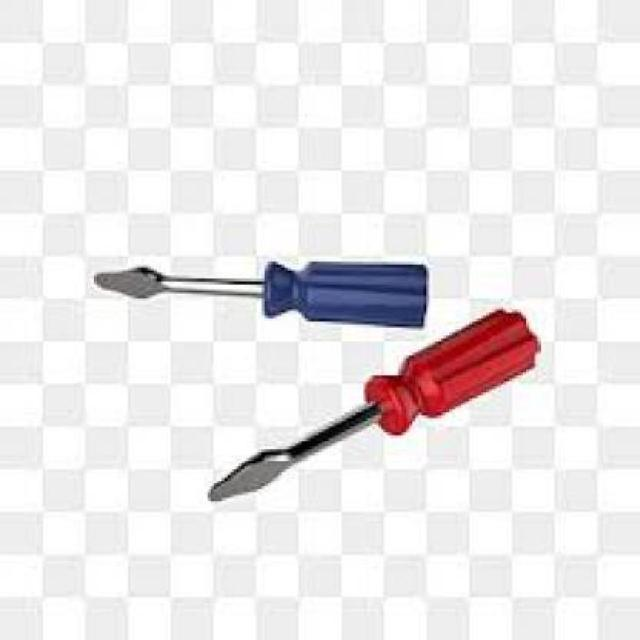screwdriver: (210, 308, 546, 500), (93, 259, 430, 330)
